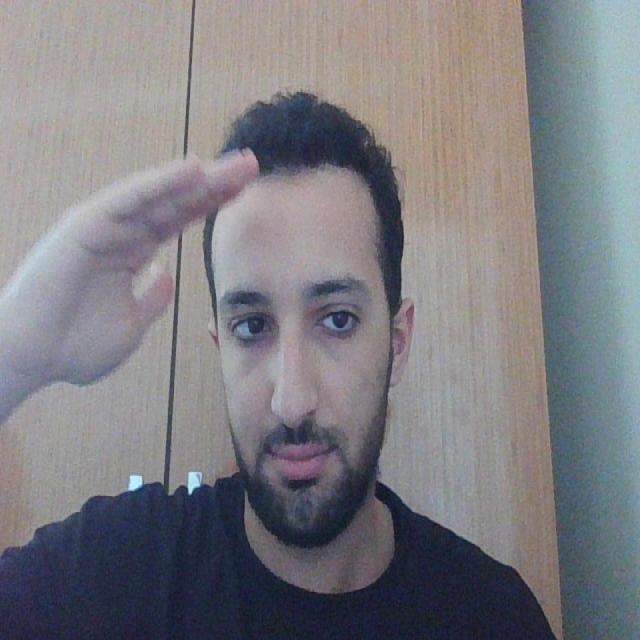Merhaba: (15, 124, 263, 436)
